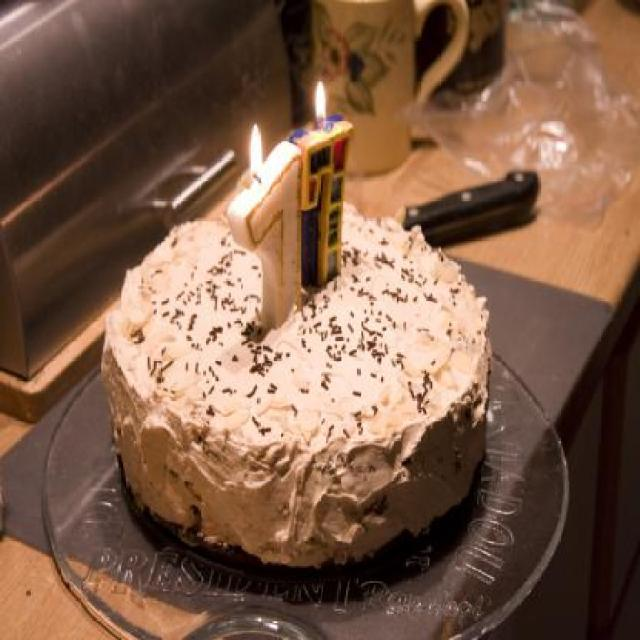Cake: (102, 197, 490, 568)
